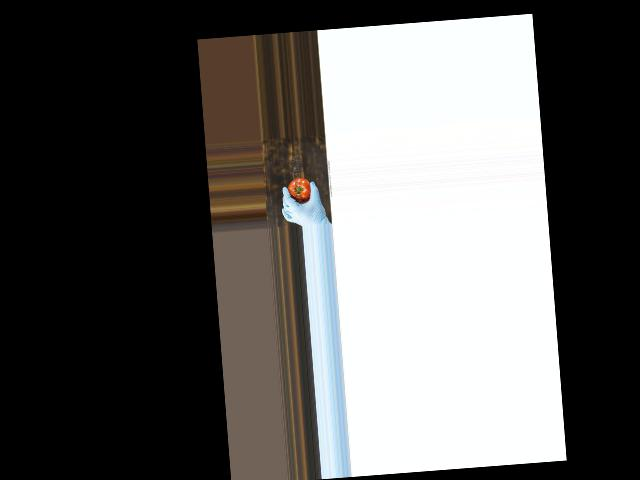tomato: (287, 176, 311, 203)
